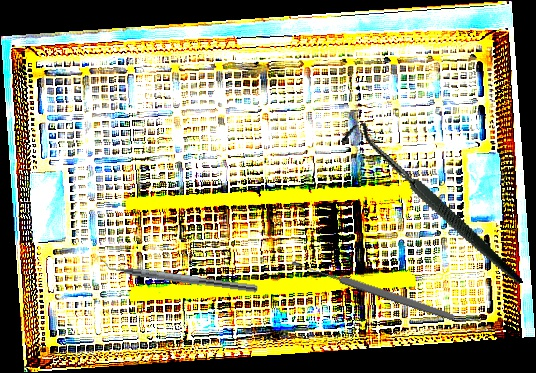Chopper: (95, 254, 260, 293)
Hook Surgical: (337, 90, 524, 324)
Surgical Spoon: (290, 257, 456, 323)
